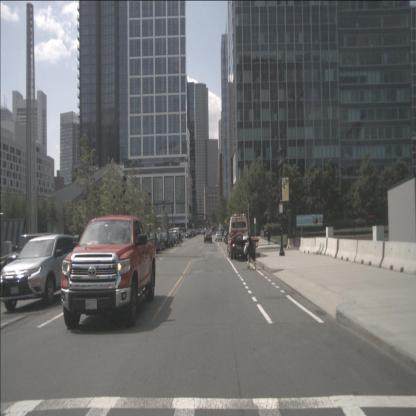barrier: (381, 239, 415, 277), (336, 239, 358, 263), (325, 237, 339, 259), (314, 236, 328, 256), (300, 238, 316, 254), (286, 238, 295, 249), (294, 238, 300, 250)
cone: (354, 240, 384, 268)
